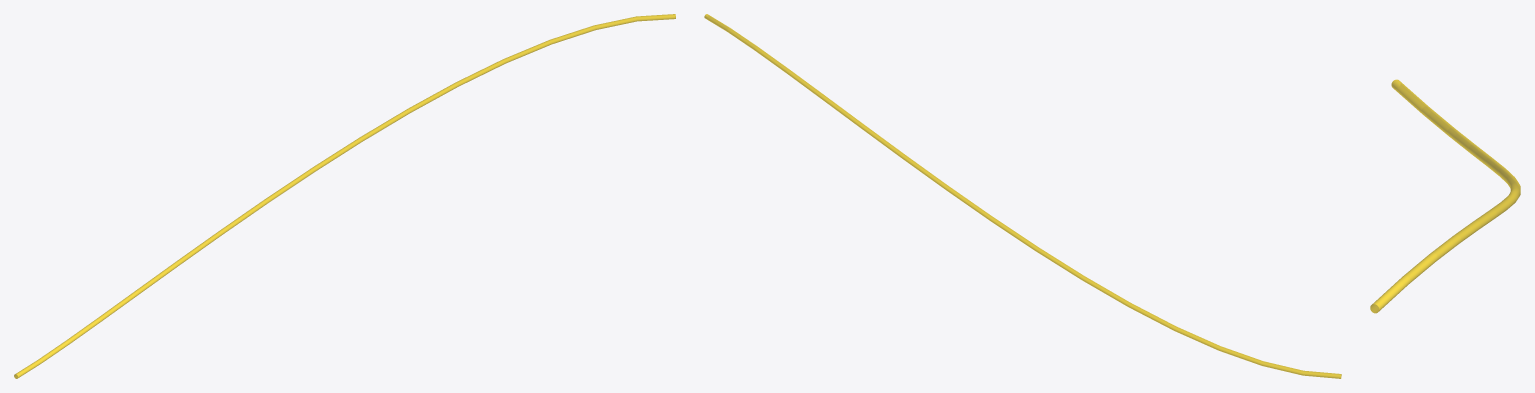
The model's file is Event_75125125_track_51.fbx.
3 renders of one model, left to right at view 1: azimuth 30°, elevation 25°; view 2: azimuth 150°, elevation 25°; view 3: azimuth 270°, elevation 25°, orthographic. The views are drawn at different scales.
Parts seen in each view (by area): view 1: Model; view 2: Model; view 3: Model.
Part boxes in pixels (x1,y1,x2,y2): Model: [14, 14, 675, 378]; Model: [704, 14, 1341, 378]; Model: [1370, 79, 1520, 313].
Size of the model in its own units: 5.92 by 1.8 by 0.6017.
